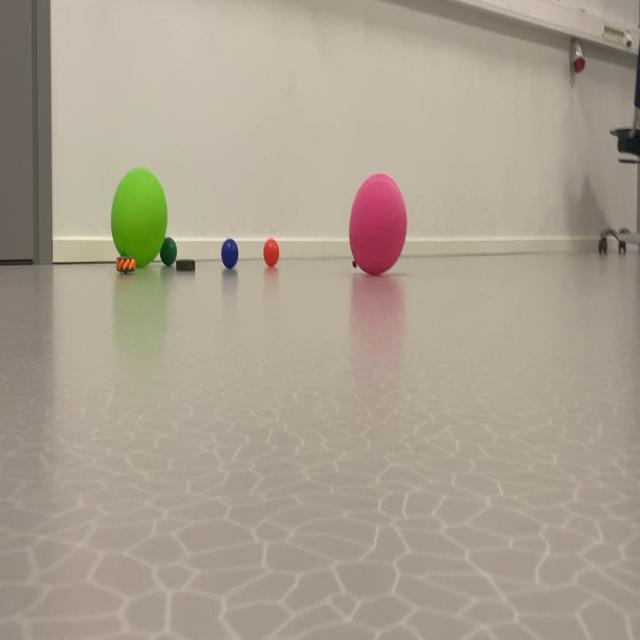7: (254, 240, 288, 288)
green ball: (214, 224, 251, 307)
red ball: (158, 228, 181, 279)
